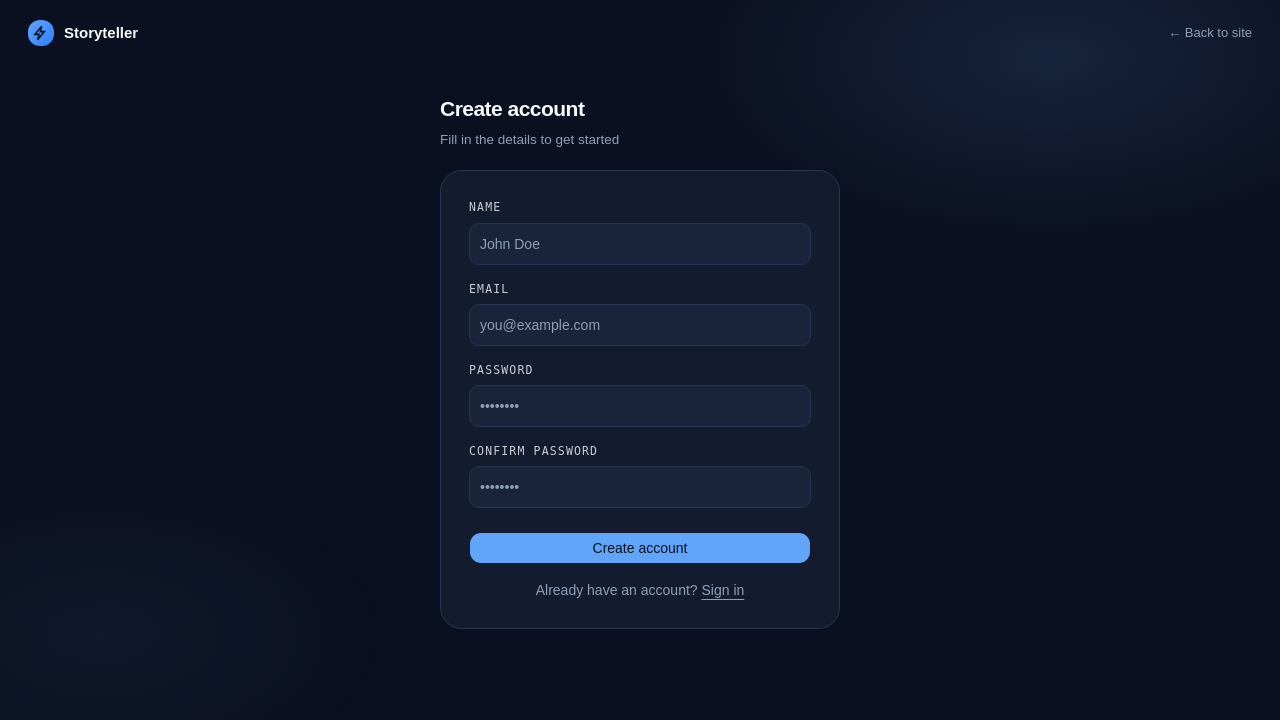
it: SignupPage › shows loading state while creating account
Type "Test" into the field labelled "Name". click: (640, 244)
box: x1=469 y1=223 x2=811 y2=265
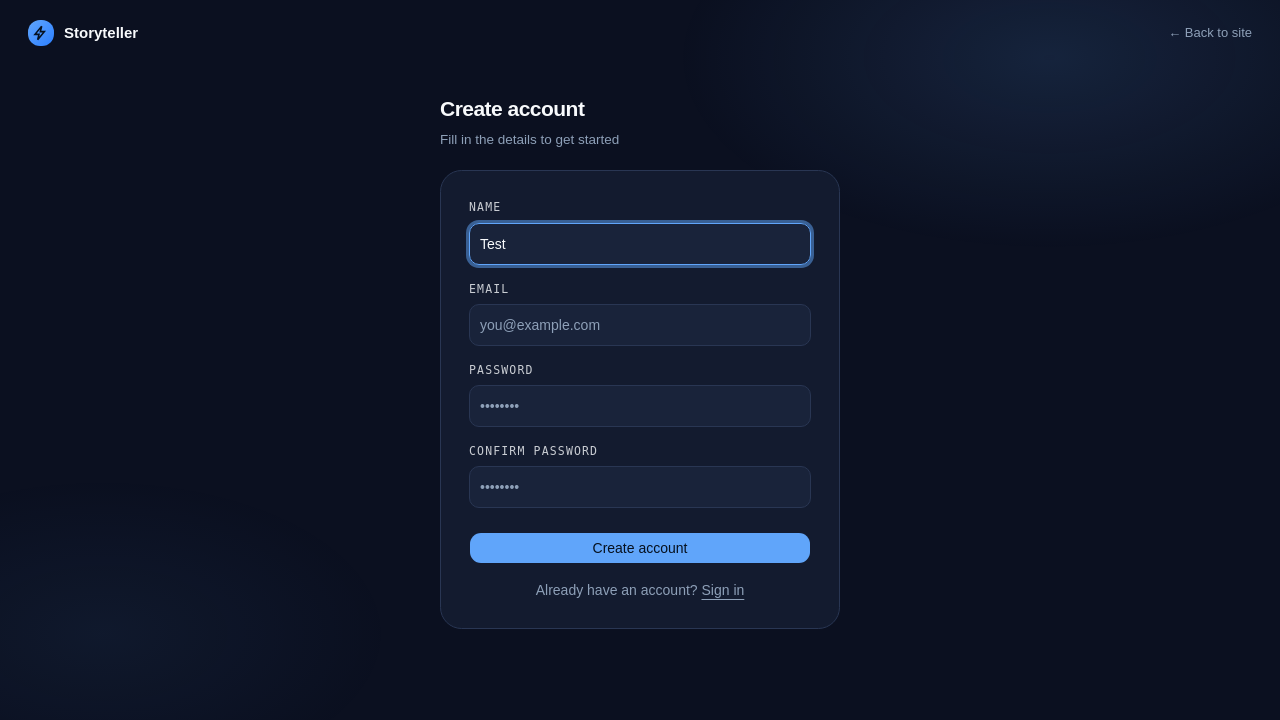
Type "a@b.com" into the field labelled "Email". click: (640, 325)
box: x1=469 y1=304 x2=811 y2=346
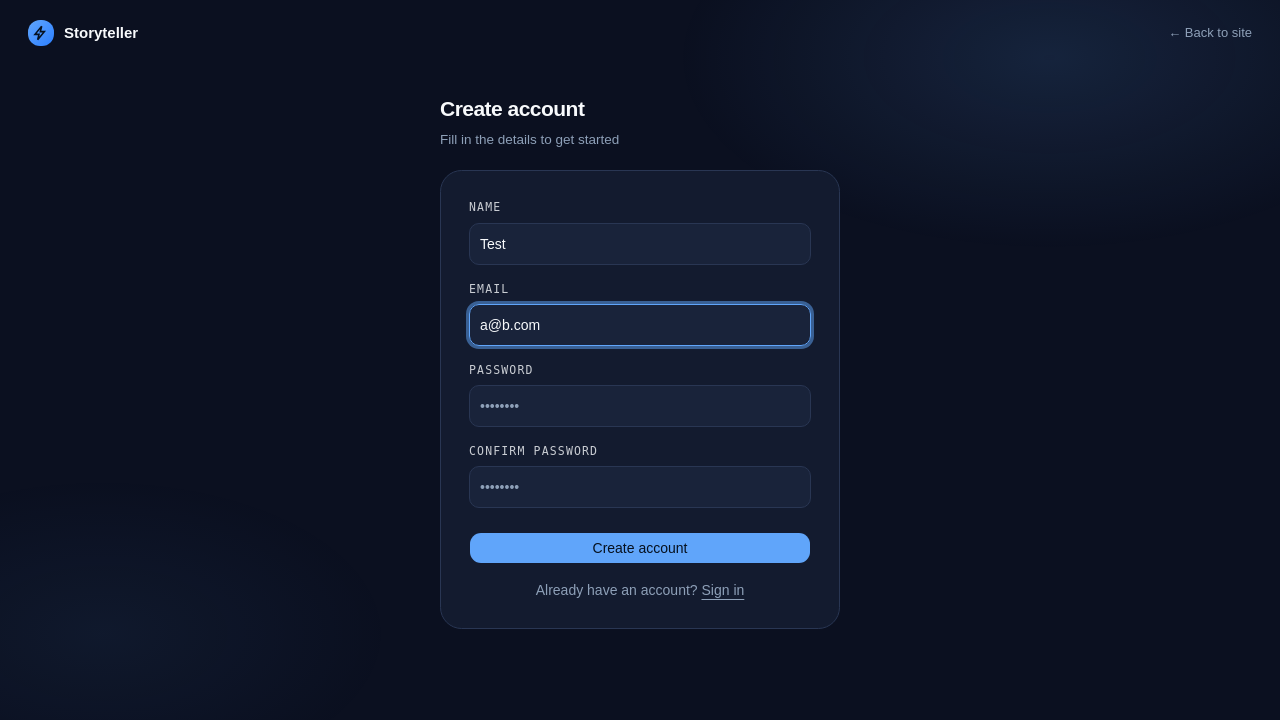
Type "Testpass1" into the password field labelled "Password". click: (640, 406)
box: x1=469 y1=385 x2=811 y2=427
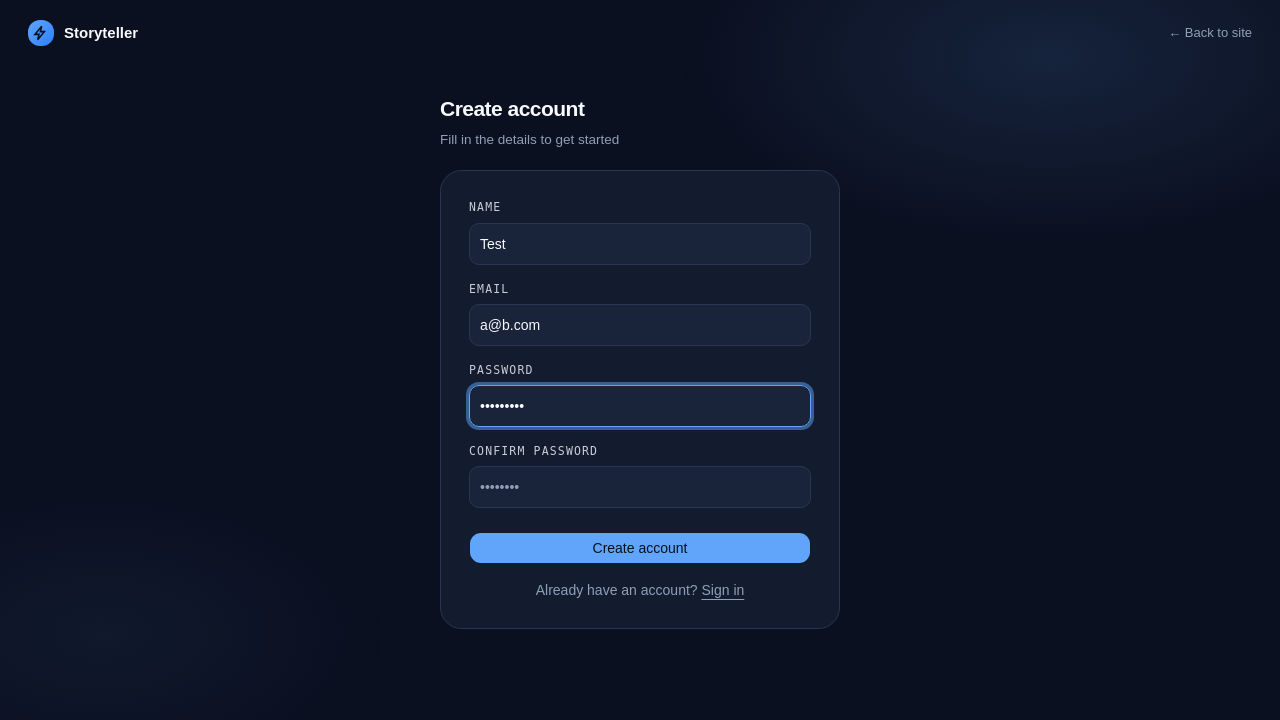
Type "Testpass1" into the password field labelled "Confirm password". click: (640, 487)
box: x1=469 y1=466 x2=811 y2=508
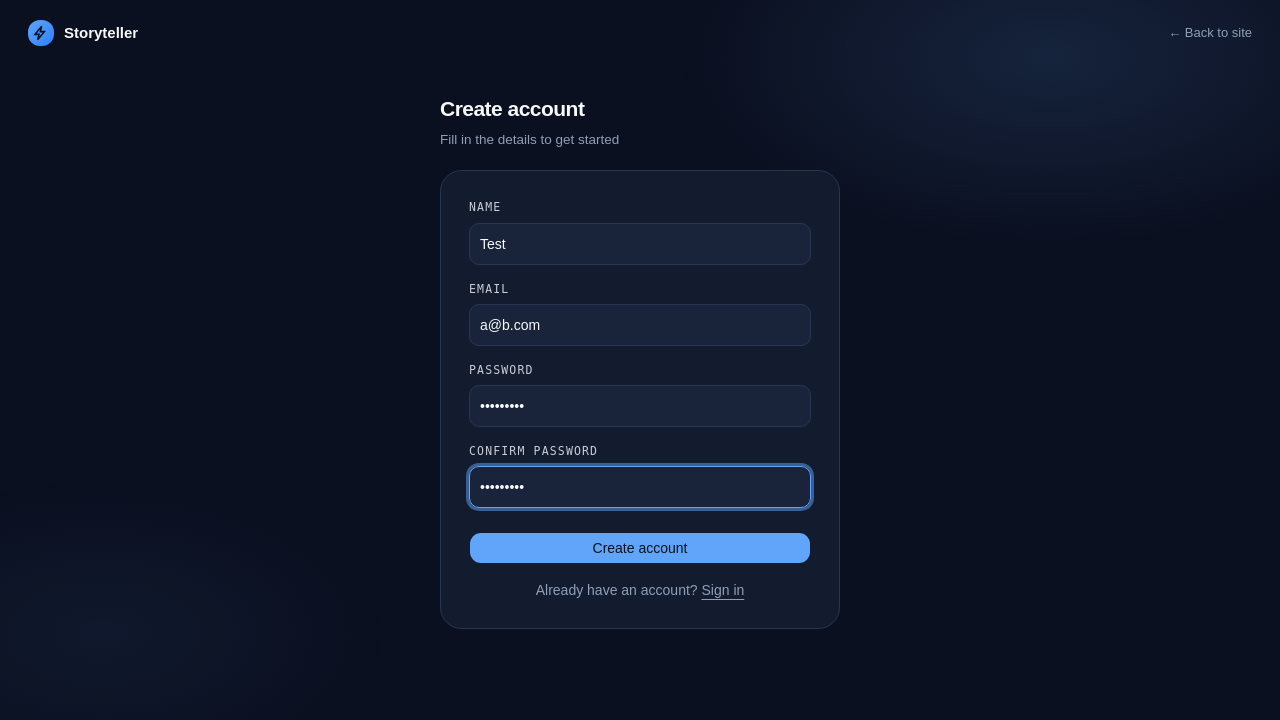
Click the button "Create account". click: (640, 548)
box: x1=469 y1=532 x2=811 y2=564
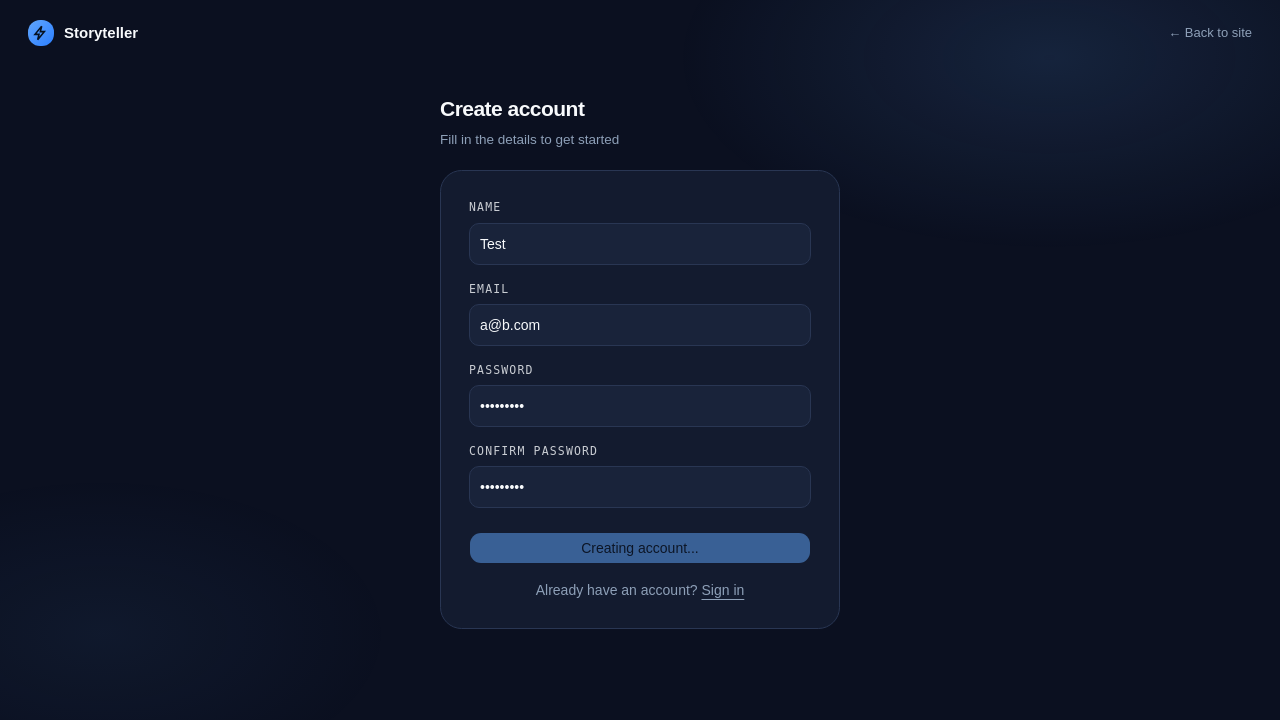
Now the button "Creating account..." is disabled, box x1=469 y1=532 x2=811 y2=564
